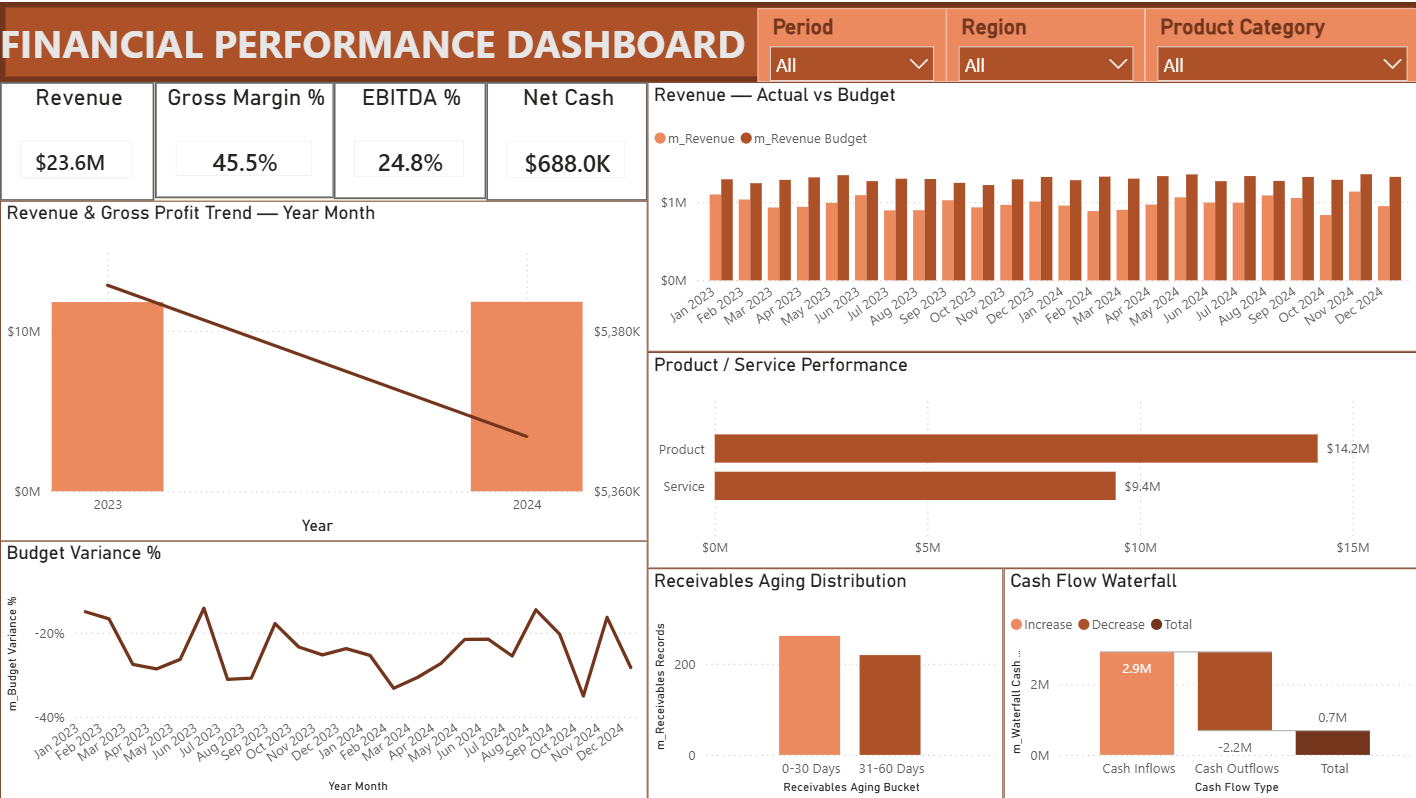

The page's visual inventory and layout, read from the dashboard file:
{"tool":"powerbi","page":{"name":"Page 1","canvas":[1280,720],"ordinal":0},"visuals":[{"type":"shape","box":[0,0,1280.3,72.1],"z":0},{"type":"slicer","fields":{"Values":["DimMonth.Date Hierarchy.Year","DimMonth.Date Hierarchy.Quarter","DimMonth.Date Hierarchy.Year Month"]},"box":[683,5.4,170.1,66.7],"z":1000},{"type":"slicer","fields":{"Values":["DimRegion.Region"]},"box":[853.1,5.4,179.6,66.7],"z":2000},{"type":"slicer","fields":{"Values":["DimProduct.Product Category"]},"box":[1032.7,5.4,247.6,66.7],"z":3000},{"type":"cardVisual","title":"Revenue","fields":{"Data":["FactFinancial.m_Revenue"]},"box":[0,72.1,139.5,107],"z":4000},{"type":"cardVisual","title":"Gross Margin %","fields":{"Data":["FactFinancial.m_Gross Margin %"]},"box":[139.5,72.1,161.6,104.7],"z":5000},{"type":"cardVisual","title":"Net Cash","fields":{"Data":["FactFinancial.m_Net Cash"]},"box":[438.4,72.1,145.3,107],"z":6000},{"type":"cardVisual","title":"EBITDA %","fields":{"Data":["FactFinancial.m_EBITDA %"]},"box":[301.2,72.1,137.2,105.8],"z":7000},{"type":"lineClusteredColumnComboChart","title":"Revenue & Gross Profit Trend — Year Month","fields":{"Category":["DimMonth.Date Hierarchy.Year","DimMonth.Date Hierarchy.Quarter","DimMonth.Date Hierarchy.Year Month"],"Y":["FactFinancial.m_Revenue"],"Y2":["FactFinancial.m_Gross Profit"]},"box":[0,179.1,583.7,307],"z":8000},{"type":"lineClusteredColumnComboChart","title":"Revenue — Actual vs Budget","fields":{"Category":["DimMonth.Year Month"],"Y":["FactFinancial.m_Revenue","FactFinancial.m_Revenue Budget"]},"box":[583.7,72.1,696.5,243],"z":9000},{"type":"lineChart","title":"Budget Variance %","fields":{"Category":["DimMonth.Year Month"],"Y":["FactFinancial.m_Budget Variance %"]},"box":[0,486,583.7,233.7],"z":10000},{"type":"clusteredBarChart","title":"Product / Service Performance","fields":{"Category":["DimProduct.Product Category Hierarchy.Product Category","DimProduct.Product Category Hierarchy.Product/Service"],"Y":["FactFinancial.m_Revenue"]},"box":[583.7,315.1,696.5,195.3],"z":11000},{"type":"clusteredColumnChart","title":"Receivables Aging Distribution","fields":{"Category":["FactFinancial.Receivables Aging Bucket"],"Y":["FactFinancial.m_Receivables Records"]},"box":[583.7,510.5,320.9,209.3],"z":12000},{"type":"waterfallChart","title":"Cash Flow Waterfall","fields":{"Y":["Cash Flow Type.m_Waterfall Cash Flow"],"Category":["Cash Flow Type.Cash Flow Type"]},"box":[904.7,510.5,375.6,209.3],"z":13000}]}

Visuals, with their boxes in screenshot pixels (x1, y1, x2, y2), scaled from the page's 1280x720 canvas onto the 1416x798 screenshot:
shape: [0,0,1415,80]
slicer - DimMonth.Date Hierarchy.Year x DimMonth.Date Hierarchy.Quarter: [756,6,944,80]
slicer - DimRegion.Region: [944,6,1142,80]
slicer - DimProduct.Product Category: [1142,6,1415,80]
"Revenue" cardVisual: [0,80,154,199]
"Gross Margin %" cardVisual: [154,80,333,196]
"Net Cash" cardVisual: [485,80,646,199]
"EBITDA %" cardVisual: [333,80,485,197]
"Revenue & Gross Profit Trend — Year Month" lineClusteredColumnComboChart: [0,199,646,539]
"Revenue — Actual vs Budget" lineClusteredColumnComboChart: [646,80,1415,349]
"Budget Variance %" lineChart: [0,539,646,797]
"Product / Service Performance" clusteredBarChart: [646,349,1415,566]
"Receivables Aging Distribution" clusteredColumnChart: [646,566,1001,797]
"Cash Flow Waterfall" waterfallChart: [1001,566,1415,797]
